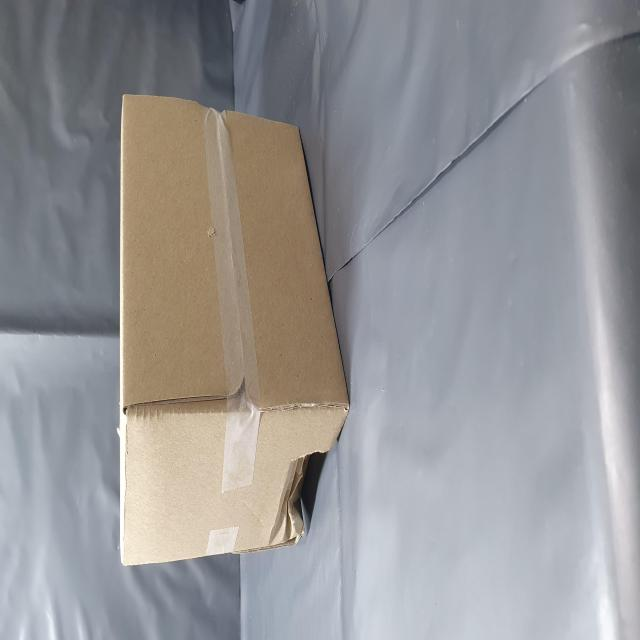damaged: (54, 484, 108, 580)
